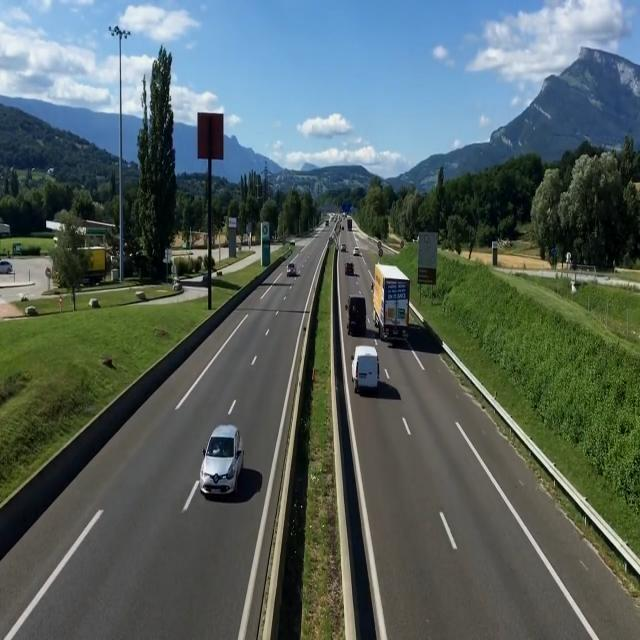Car: (197, 423, 244, 497), (0, 259, 14, 276), (286, 263, 296, 277), (344, 261, 354, 275), (352, 246, 360, 257), (341, 244, 347, 252)
Truck: (370, 262, 412, 344)
Van: (348, 345, 382, 395), (344, 295, 367, 334)
